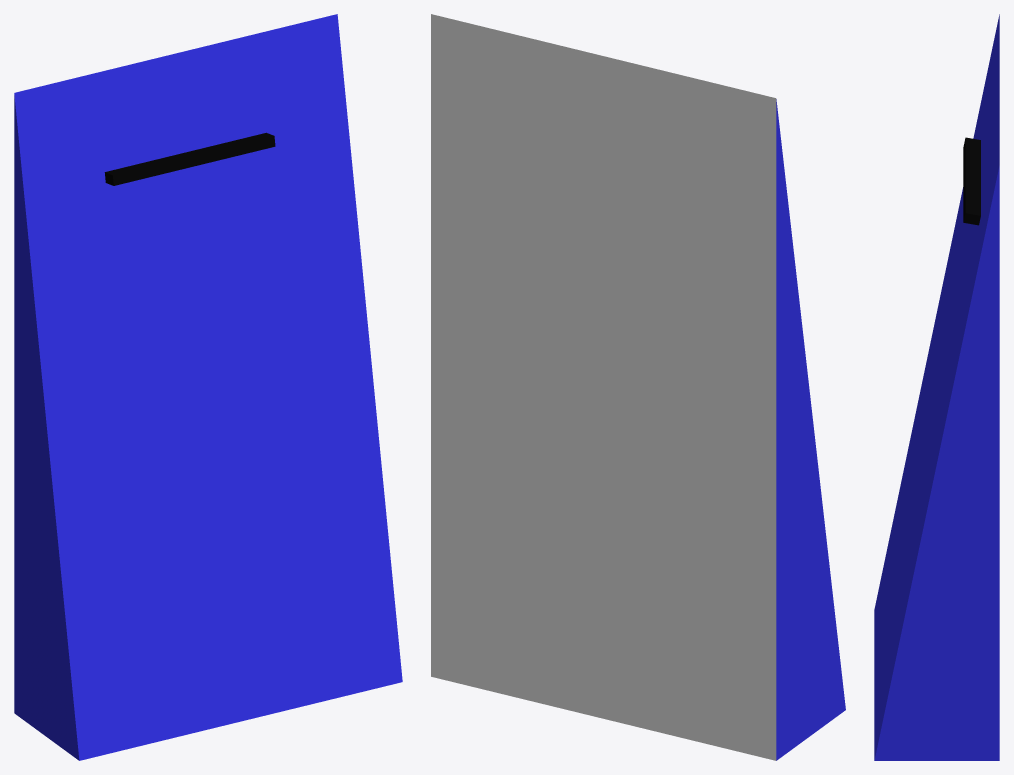
File: Switch Blue.fbx
3 renders of one model, left to right at view 1: azimuth 30°, elevation 25°; view 2: azimuth 150°, elevation 25°; view 3: azimuth 270°, elevation 25°, orthographic. The views are drawn at different scales.
Visible parts, largest first — view 1: Component1; view 2: Component1; view 3: Component1.
Boxes of the visible parts, x1,y1,x2,y2 form: Component1: [14, 14, 402, 760]; Component1: [431, 14, 845, 760]; Component1: [874, 14, 999, 760].
Size of the model in its own units: 0.9747 by 1.79 by 0.3401.
